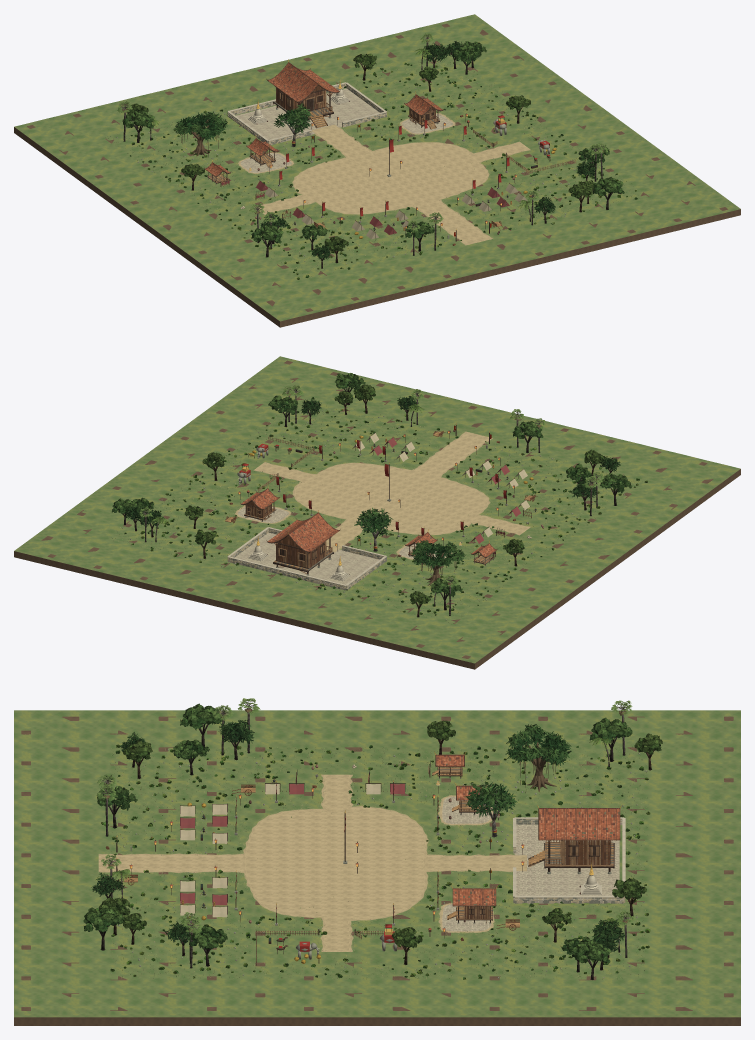
Rendered from guild-hall.glb.
3 renders of one model, top to bottom at view 1: azimuth 30°, elevation 25°; view 2: azimuth 150°, elevation 25°; view 3: azimuth 270°, elevation 25°, orthographic. The views are drawn at different scales.
Visible parts, largest first — view 1: Ground - varied meadow | grass, Courtyard paving | path, Soil foundation | earth, Courtyard paving | paving, Tracks - worn earth | path, Organic tree foliage | real bushes, Feathered road shoulders | path_edge, Roof / overlapping clay tiles | roof, Organic tree foliage | capital-banyan-crown, Camp / cloth tents | linen, Organic tree foliage | bodhi-364, Boundary / wall coping | plaster (+3 smaller); view 2: Ground - varied meadow | grass, Courtyard paving | path, Soil foundation | earth, Organic tree foliage | real bushes, Tracks - worn earth | path, Courtyard paving | paving, Roof / overlapping clay tiles | roof, Feathered road shoulders | path_edge, Organic tree foliage | capital-banyan-crown, Organic tree foliage | bodhi-364, Camp / cloth tents | linen, Boundary / individual masonry blocks | stone (+3 smaller); view 3: Ground - varied meadow | grass, Courtyard paving | path, Soil foundation | earth, Tracks - worn earth | path, Organic tree foliage | real bushes, Courtyard paving | paving, Feathered road shoulders | path_edge, Roof / overlapping clay tiles | roof, Camp / cloth tents | linen, Organic tree foliage | capital-banyan-crown, Organic tree foliage | bodhi-364, Camp / cloth tents | cloth (+20 smaller).
Boxes of the visible parts, box(x1,y1,x2,y2) form: Ground - varied meadow | grass: box(14, 14, 740, 321); Courtyard paving | path: box(295, 143, 487, 213); Soil foundation | earth: box(14, 24, 740, 327); Courtyard paving | paving: box(236, 88, 453, 172); Tracks - worn earth | path: box(255, 125, 529, 244); Organic tree foliage | real bushes: box(129, 60, 637, 279); Feathered road shoulders | path_edge: box(237, 113, 530, 245); Roof / overlapping clay tiles | roof: box(206, 63, 442, 175); Organic tree foliage | capital-banyan-crown: box(174, 111, 228, 139); Camp / cloth tents | linen: box(265, 183, 527, 239); Organic tree foliage | bodhi-364: box(273, 103, 310, 134); Boundary / wall coping | plaster: box(227, 82, 386, 141); Ground - varied meadow | grass: box(14, 356, 740, 663); Courtyard paving | path: box(295, 463, 487, 534); Soil foundation | earth: box(14, 360, 740, 669); Organic tree foliage | real bushes: box(124, 397, 647, 615); Tracks - worn earth | path: box(255, 432, 529, 551); Courtyard paving | paving: box(235, 506, 445, 584); Roof / overlapping clay tiles | roof: box(241, 489, 496, 556); Feathered road shoulders | path_edge: box(234, 431, 530, 559); Organic tree foliage | capital-banyan-crown: box(412, 540, 465, 568); Organic tree foliage | bodhi-364: box(354, 507, 393, 536); Camp / cloth tents | linen: box(352, 433, 529, 537); Boundary / individual masonry blocks | stone: box(229, 528, 386, 590); Ground - varied meadow | grass: box(14, 710, 740, 1017); Courtyard paving | path: box(245, 807, 424, 919); Soil foundation | earth: box(14, 716, 740, 1025); Tracks - worn earth | path: box(98, 774, 526, 951); Organic tree foliage | real bushes: box(95, 744, 650, 979); Courtyard paving | paving: box(442, 796, 619, 931); Feathered road shoulders | path_edge: box(98, 774, 526, 951); Roof / overlapping clay tiles | roof: box(436, 755, 619, 905); Camp / cloth tents | linen: box(180, 784, 380, 917); Organic tree foliage | capital-banyan-crown: box(505, 724, 571, 762); Organic tree foliage | bodhi-364: box(464, 782, 517, 817); Camp / cloth tents | cloth: box(180, 784, 404, 905).
Size of the model in its own units: 180 by 18.56 by 180.
Materials: 43 (43 with a texture image).
